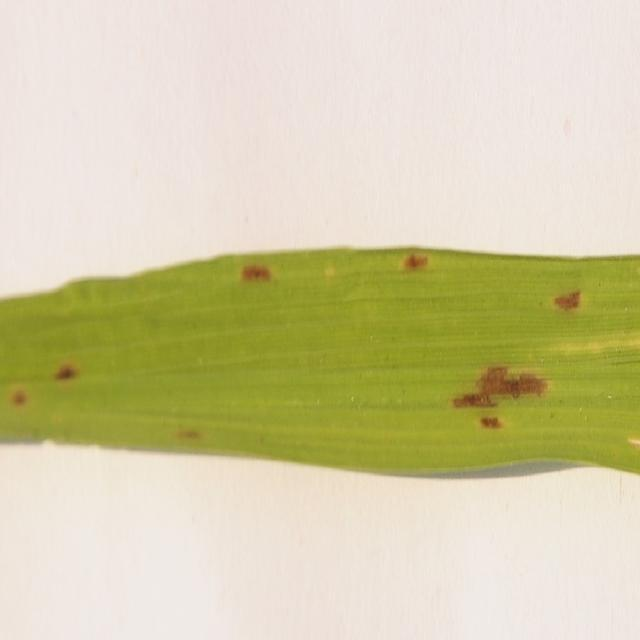brownspots: (447, 338, 547, 448), (552, 276, 588, 322), (242, 251, 275, 300), (50, 345, 80, 398), (403, 248, 428, 278), (8, 381, 30, 408), (174, 420, 203, 440)
